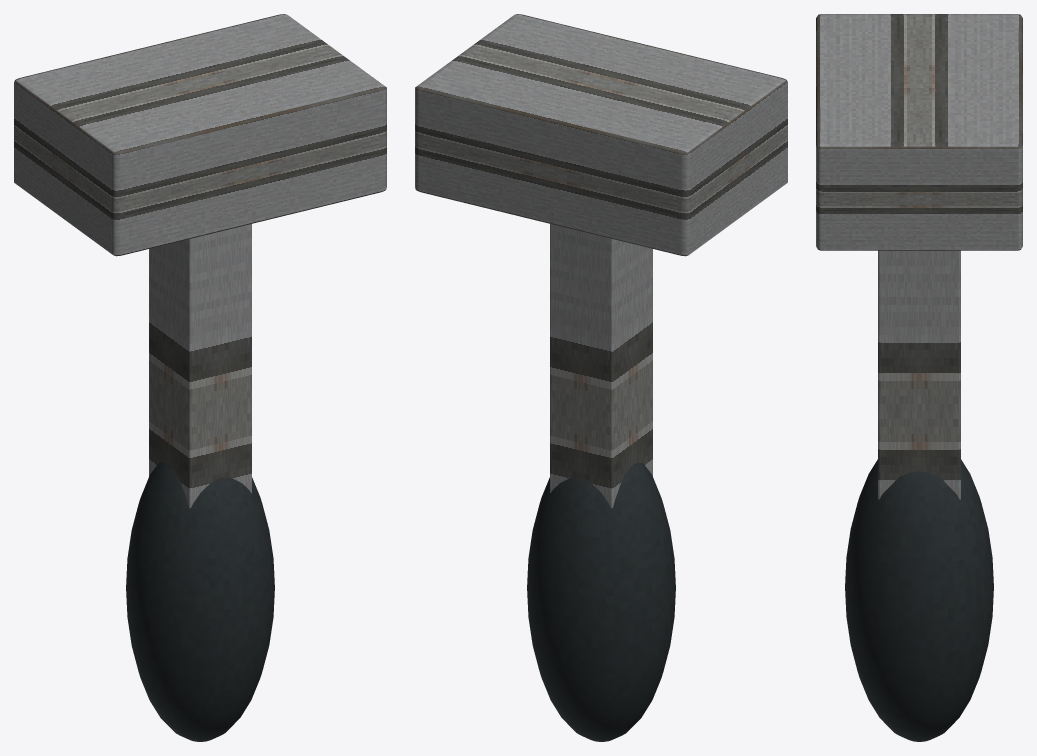
Rendered from mic.glb.
The picture shows the model from 3 angles, left to right: view 1: azimuth 30°, elevation 25°; view 2: azimuth 150°, elevation 25°; view 3: azimuth 270°, elevation 25°; orthographic projection.
Parts seen in each view (by area): view 1: head, grip, shaft; view 2: head, grip, shaft; view 3: head, grip, shaft.
Boxes of the visible parts, left/top/right/bottom form: head: left=14, top=14, right=386, bottom=256; grip: left=126, top=462, right=274, bottom=741; shaft: left=149, top=224, right=251, bottom=508; head: left=415, top=14, right=787, bottom=256; grip: left=527, top=462, right=675, bottom=741; shaft: left=550, top=224, right=652, bottom=508; head: left=816, top=14, right=1022, bottom=250; grip: left=845, top=459, right=993, bottom=741; shaft: left=878, top=250, right=960, bottom=499.
Bounding box in the file's own units: 0.057 × 0.13 × 0.037.
Materials: 2 (2 with a texture image).
